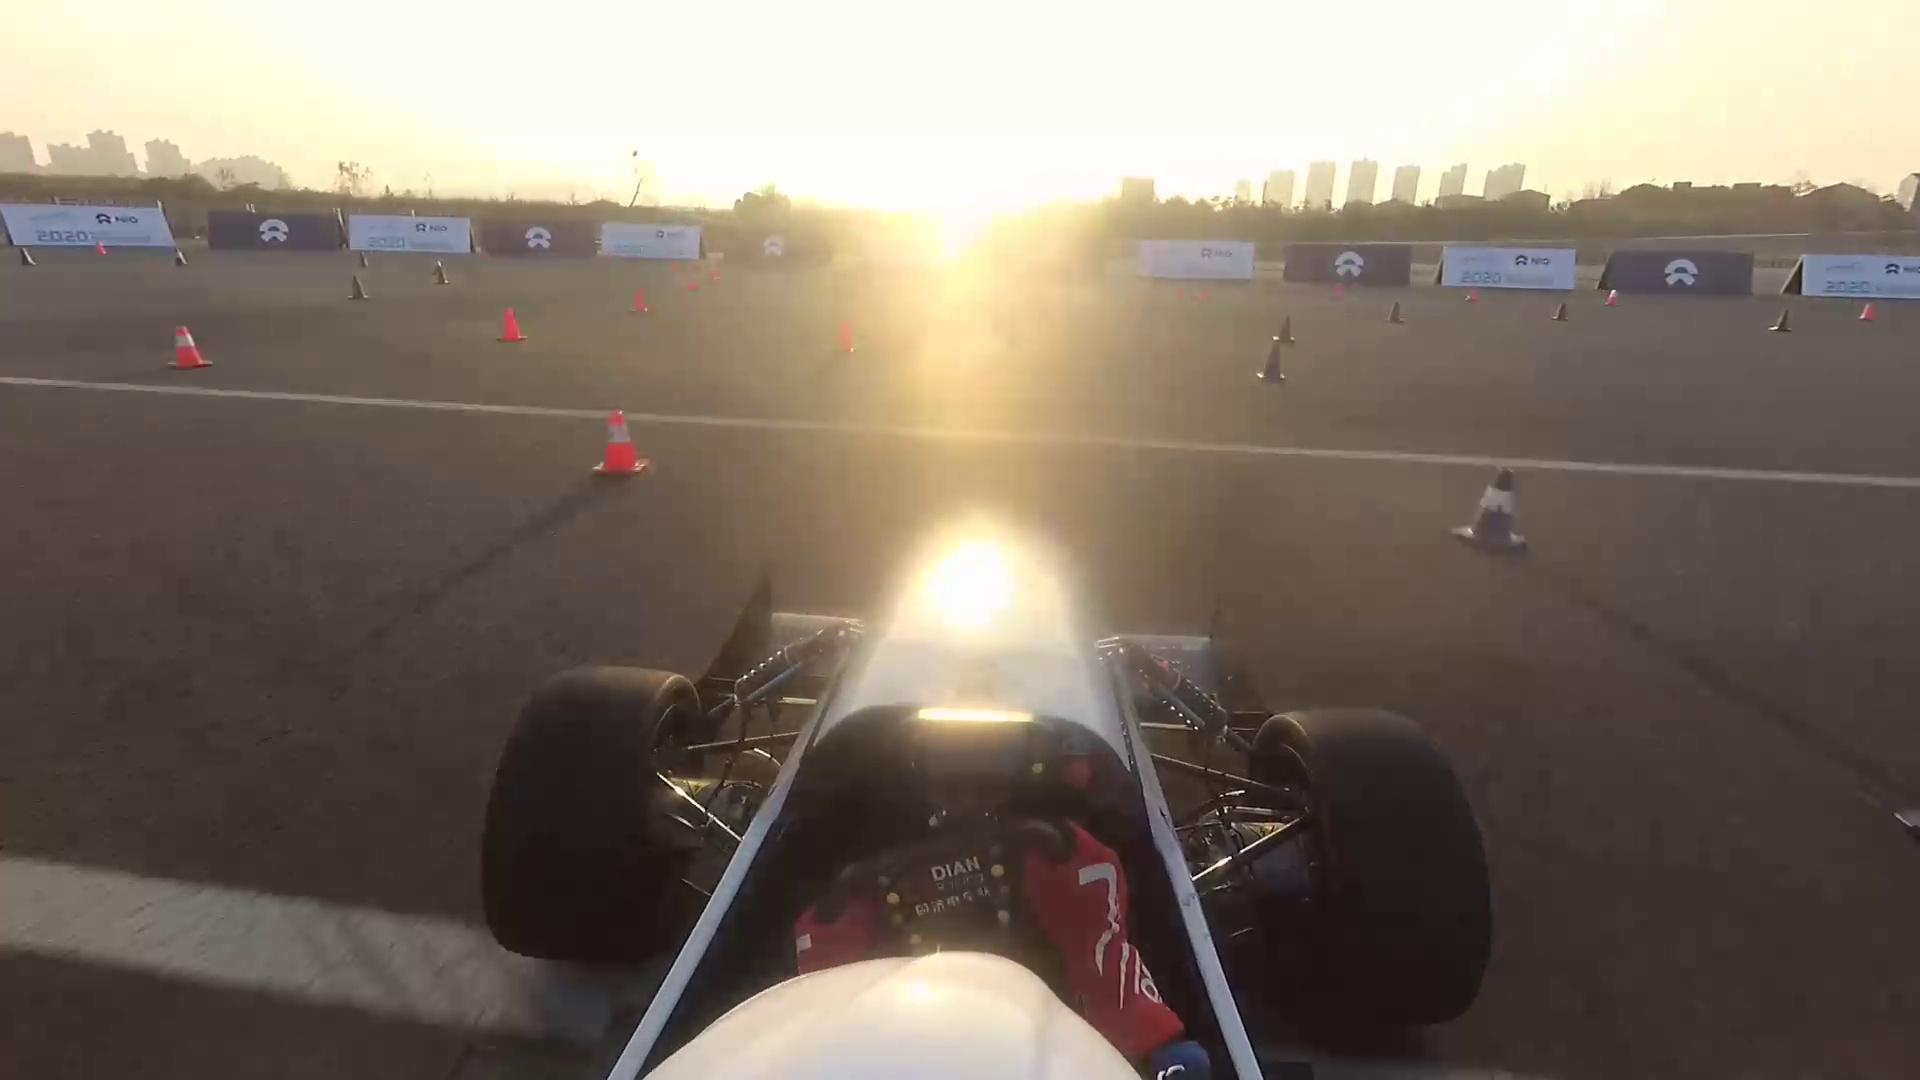blue_cone: (1461, 468, 1527, 547), (1257, 345, 1286, 382), (1275, 316, 1298, 343), (1770, 309, 1788, 334), (348, 276, 367, 301), (1549, 301, 1569, 322), (17, 247, 36, 266), (434, 262, 448, 284), (1389, 301, 1400, 323), (171, 249, 186, 265), (357, 251, 372, 266)
red_cone: (591, 411, 647, 477), (166, 327, 210, 371), (498, 307, 526, 343), (835, 324, 856, 352), (632, 290, 647, 311), (1606, 289, 1622, 309), (1859, 301, 1873, 320), (1466, 286, 1480, 302), (94, 243, 107, 256)
